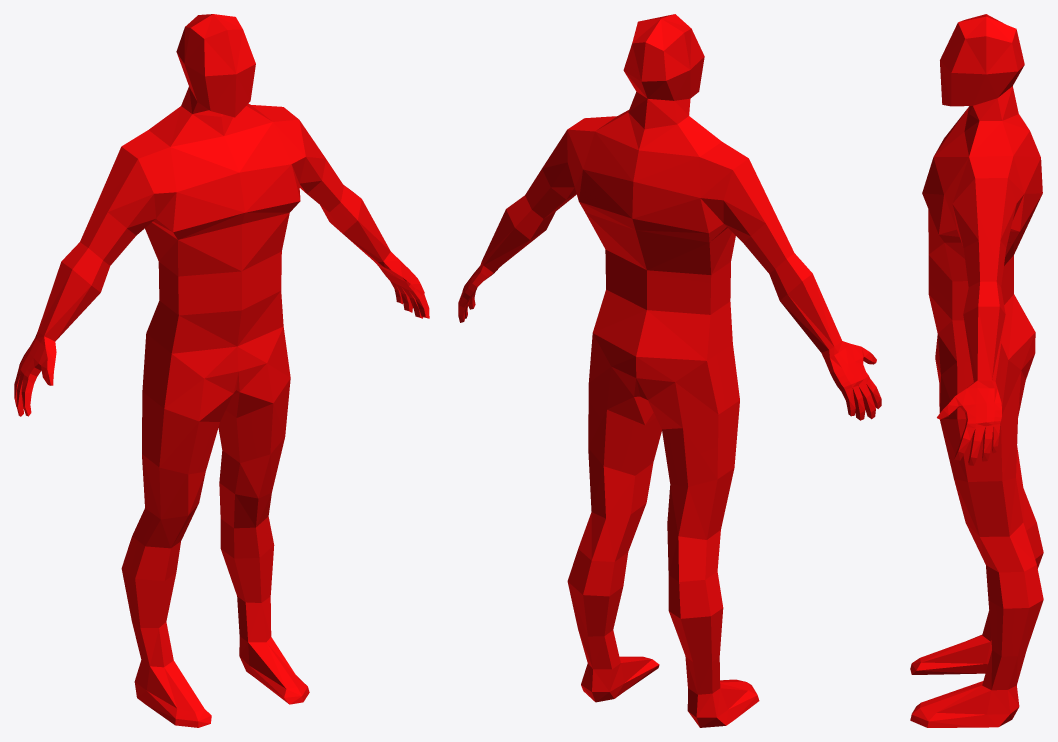
The model's file is enemy.fbx.
3 renders of one model, left to right at view 1: azimuth 30°, elevation 25°; view 2: azimuth 150°, elevation 25°; view 3: azimuth 270°, elevation 25°, orthographic. The views are drawn at different scales.
Parts seen in each view (by area): view 1: Cube.001; view 2: Cube.001; view 3: Cube.001.
Boxes of the visible parts, left/top/right/bottom form: Cube.001: left=14, top=14, right=429, bottom=727; Cube.001: left=458, top=14, right=881, bottom=727; Cube.001: left=910, top=14, right=1043, bottom=727.
Size of the model in its own units: 125 by 199 by 35.44.
